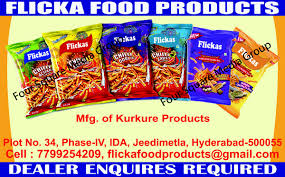plastic: (7, 22, 271, 118)
wrapper: (6, 34, 82, 113), (174, 29, 241, 105), (141, 22, 198, 103), (101, 19, 156, 101), (234, 24, 281, 110)
